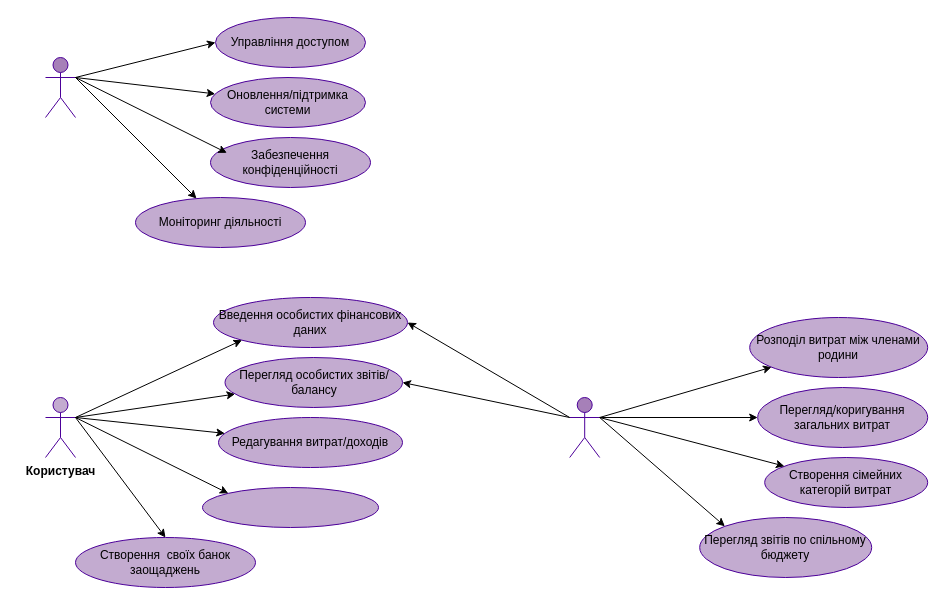
The diagram is 946 pixels wide and 605 high, and some of its shapes have lost their labels. The shapes that lost their labels are listed below. From the top down, each one's centre as x and y in pixels, then its label:
the point at 60,87: Адміністратор
the point at 584,427: Сімейний(спільний) акаунт
the point at 290,507: Додавання нових категорій витрат(тільки для себе)
